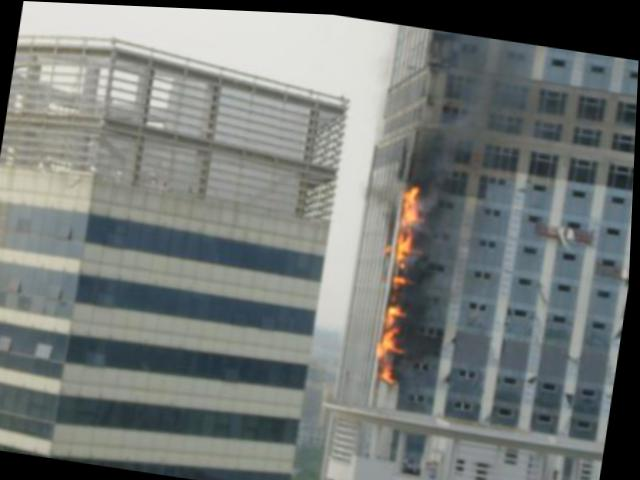fire: (375, 178, 424, 382)
